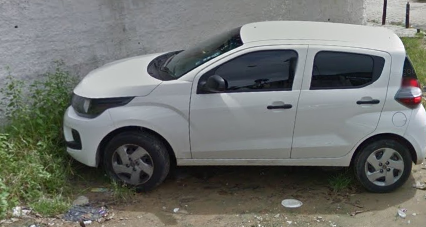car: (60, 19, 425, 200)
